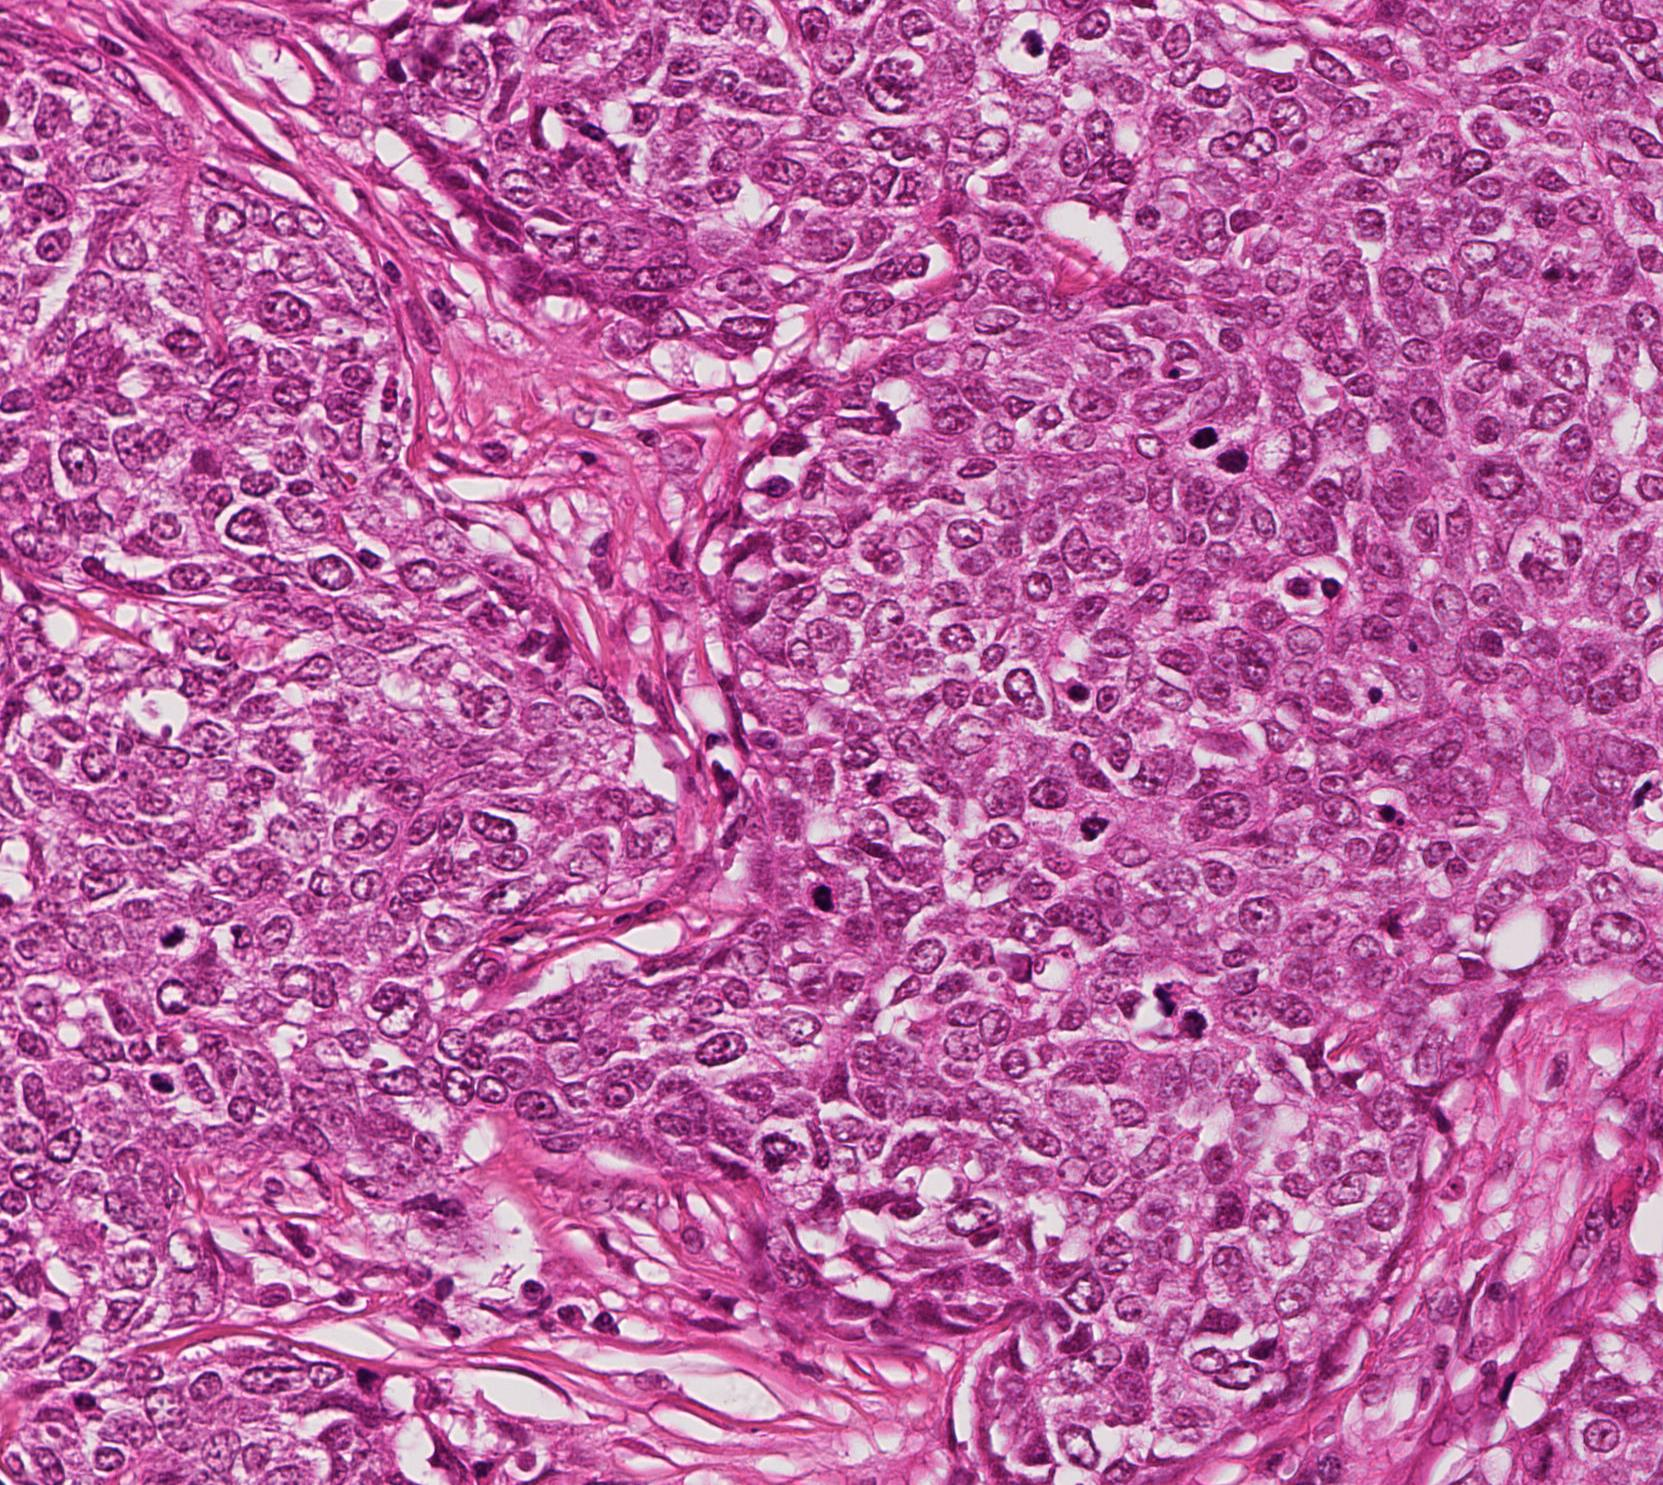mitosis: (138, 903, 196, 963), (1206, 427, 1264, 487)
